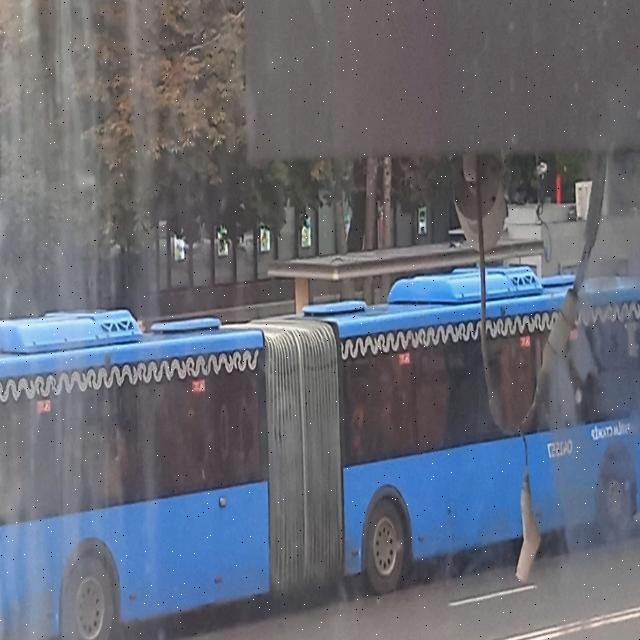bus: (0, 285, 635, 629)
